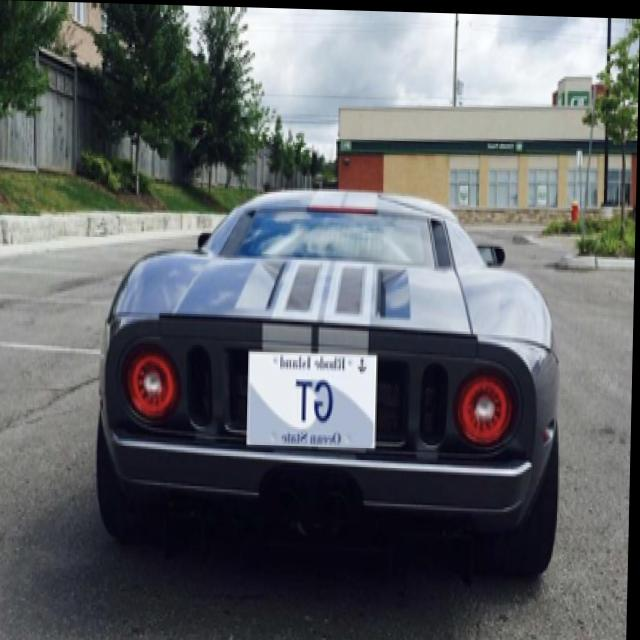licence: (252, 348, 380, 443)
